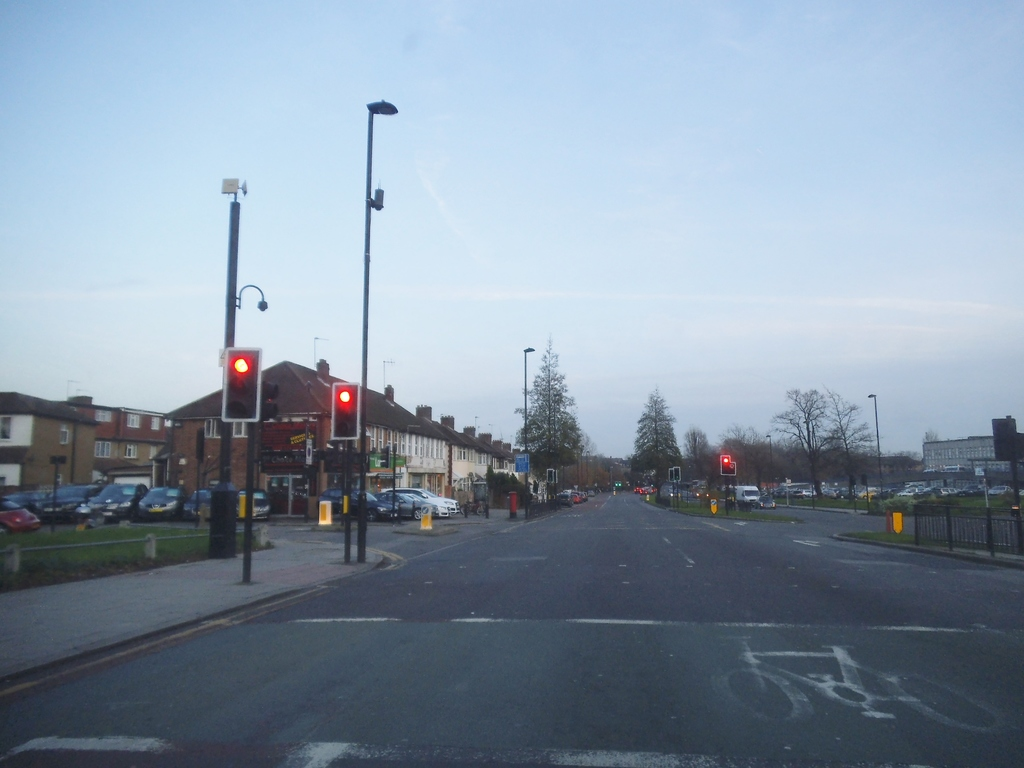red_light: (227, 351, 259, 420), (335, 383, 359, 439), (720, 455, 730, 475)
